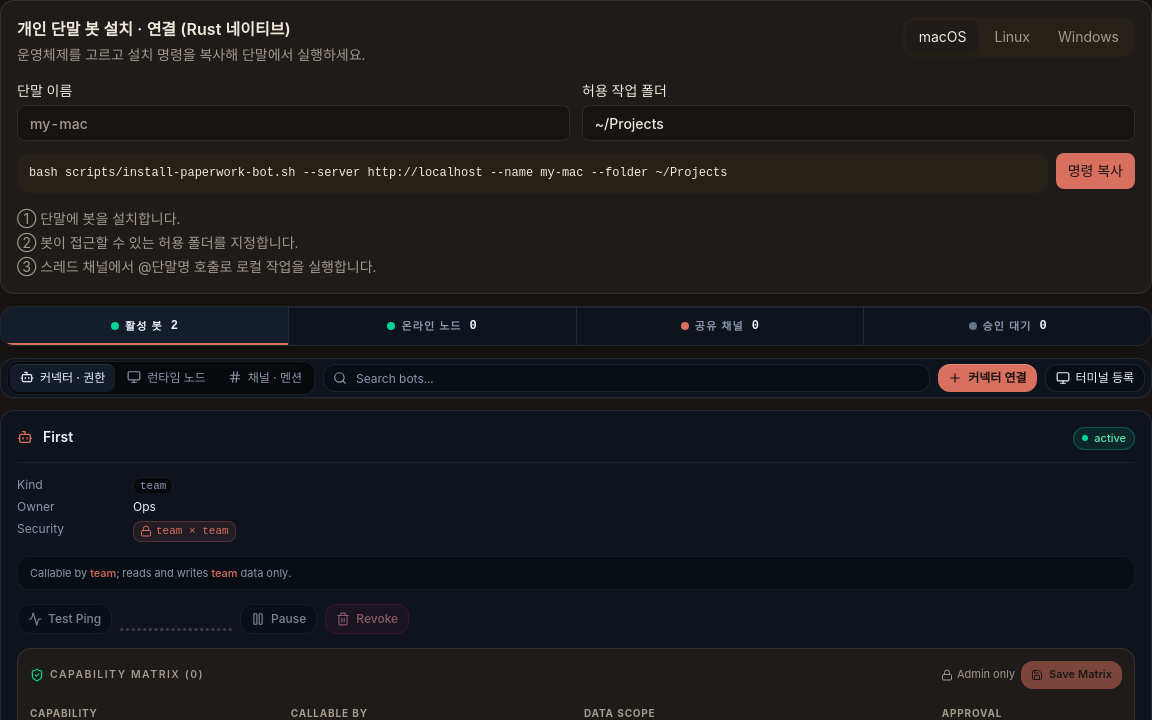
Test case: detail page accessibility and keyboard navigation › labels connector and terminal form controls and announces team loading errors
Step 1. Click the button "커넥터 연결" → x=987, y=378, box [938,364,1036,392]
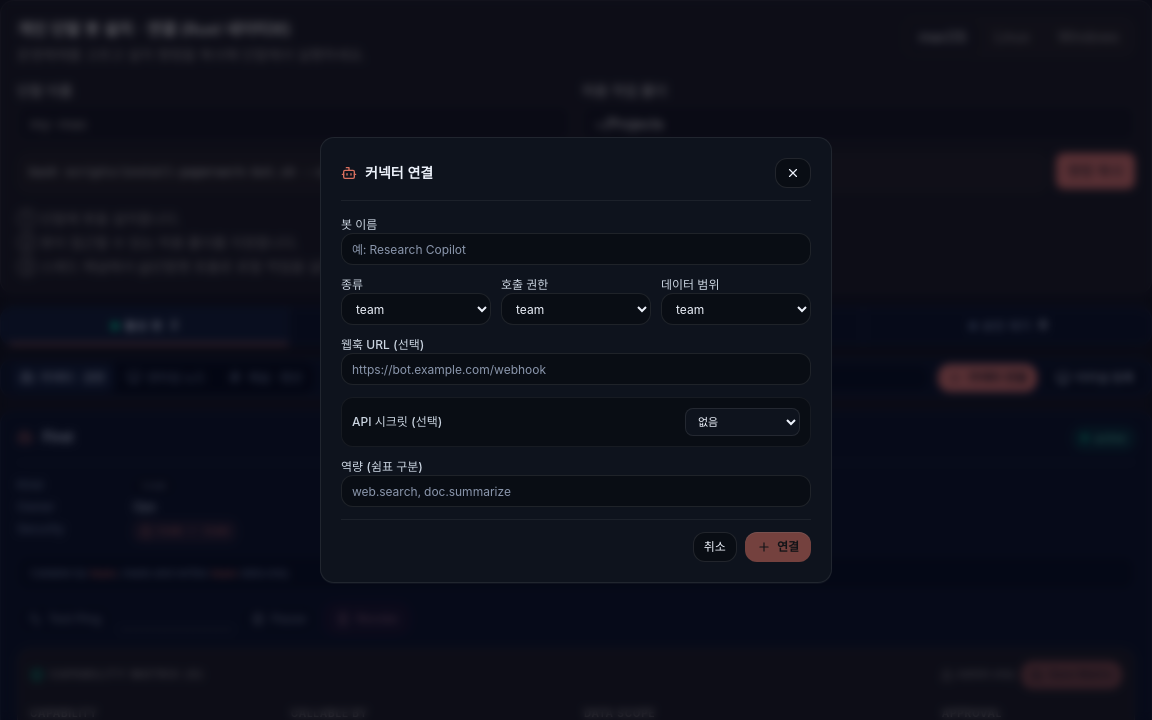
Step 2. Click the button named "커넥터 연결 대화상자 닫기" → x=793, y=173, box [775,158,811,188]
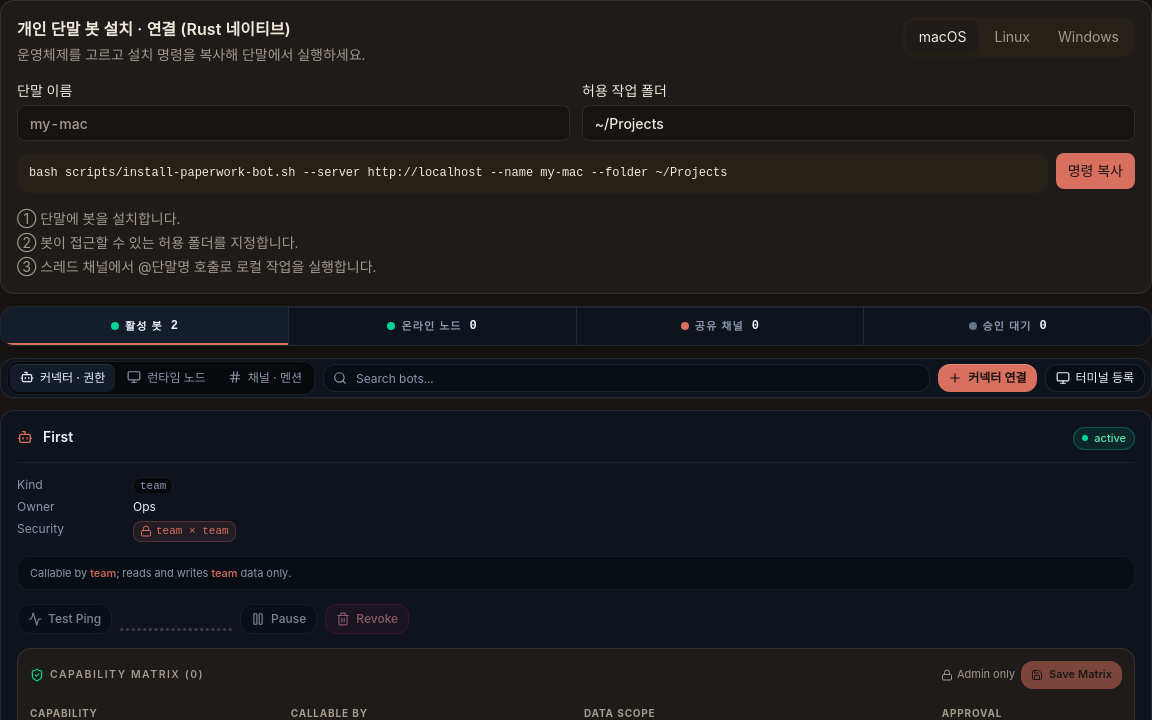
Step 3. Click the button "터미널 등록" → x=1095, y=378, box [1045,364,1145,392]
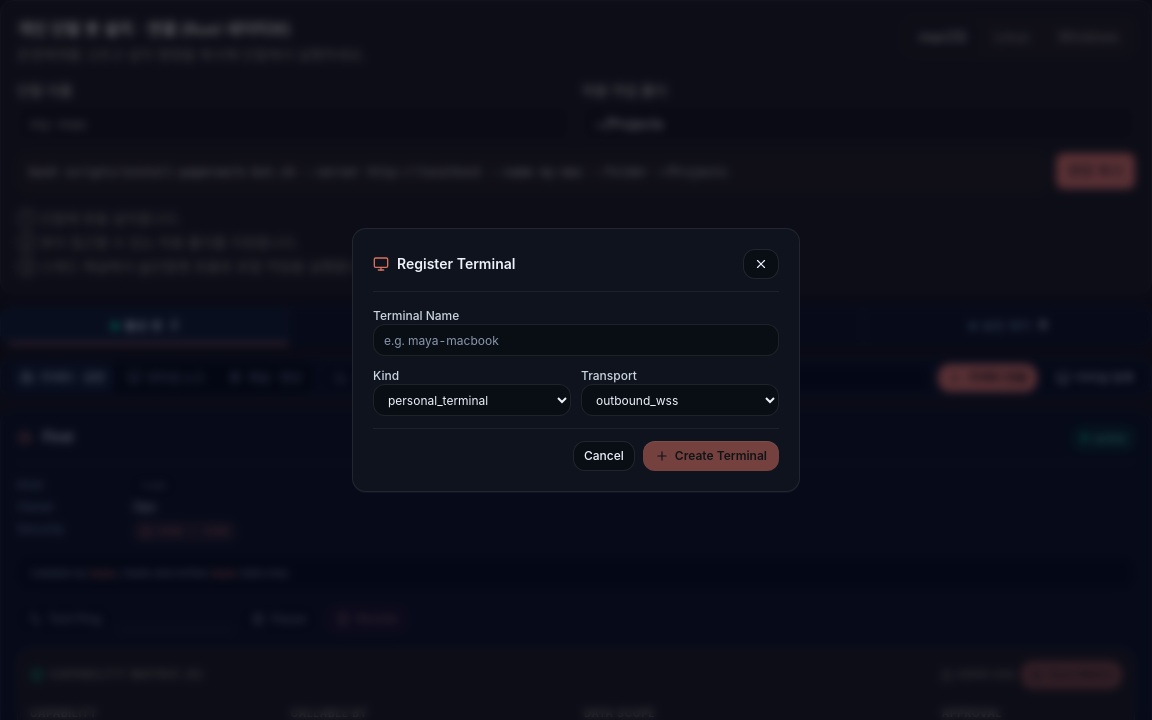
Step 4. Select "worker_node" in the dropdown labelled "Kind" → x=472, y=400, box [373,384,571,416]
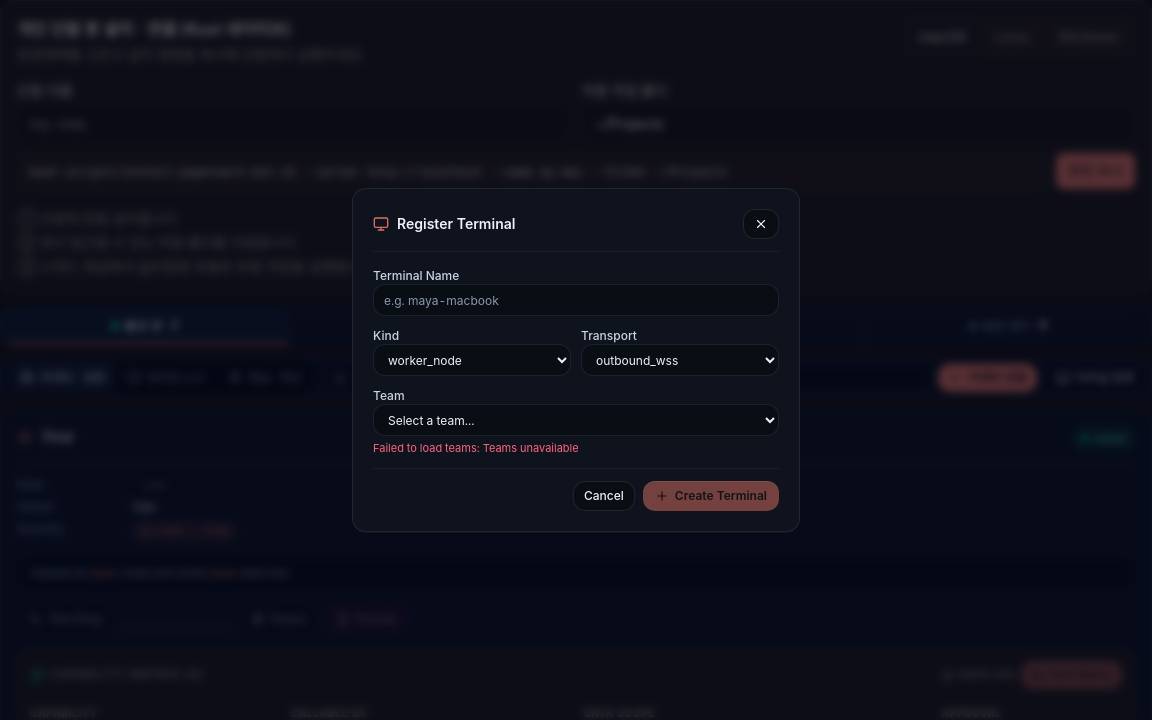
Expected: the text "Failed to load teams: Teams unavailable" is shown, [373,441,579,455]
